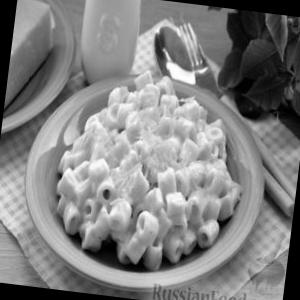pasta: (51, 64, 252, 274)
